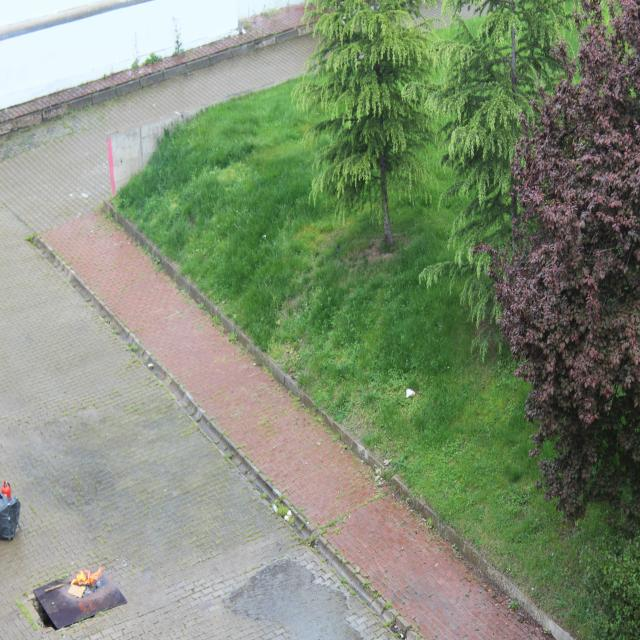fire: (44, 544, 120, 610)
